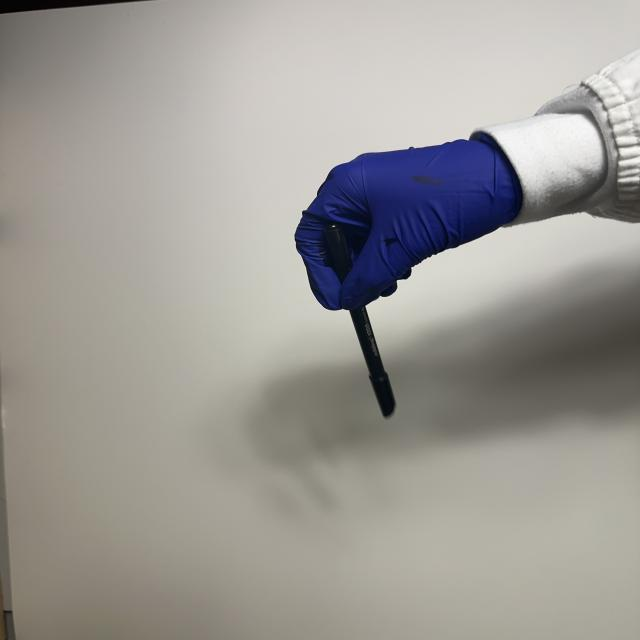gloves_contaminated: (295, 138, 523, 311)
